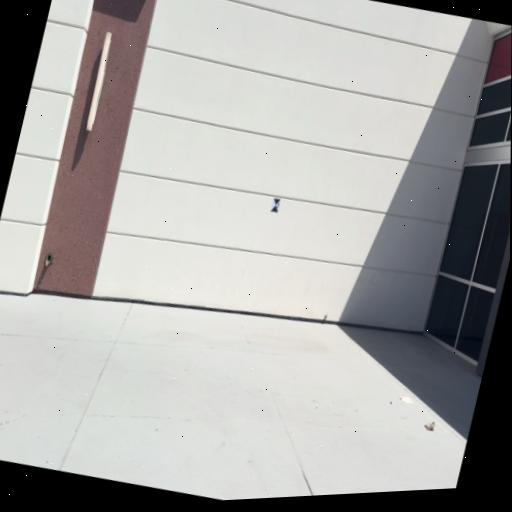target7: (271, 197, 282, 213)
